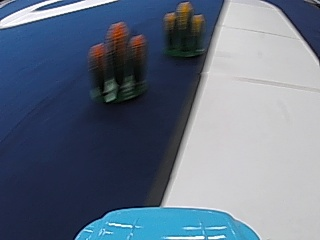corn: (88, 19, 149, 108), (163, 0, 208, 57)
